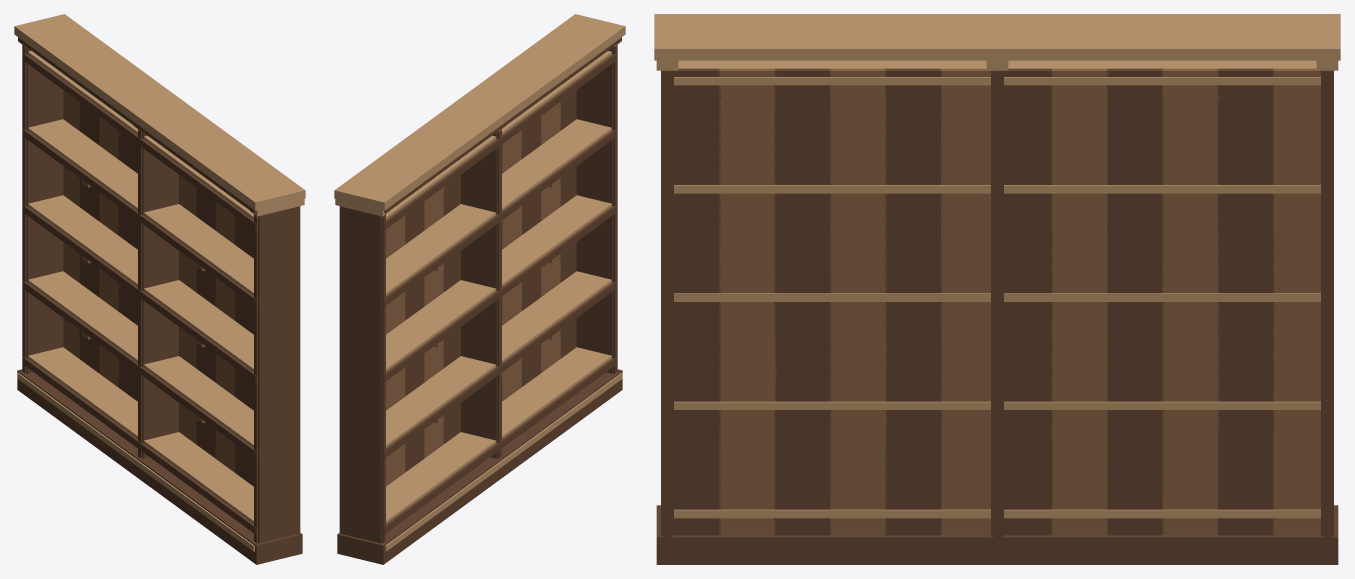
File: deco_furn_shelf.obj
3 views of the same model, side by side, from view 1: azimuth 30°, elevation 25°; view 2: azimuth 150°, elevation 25°; view 3: azimuth 270°, elevation 25° (orthographic). The views are drawn at different scales.
Visible parts, largest first — view 1: deco_furn_shelf; view 2: deco_furn_shelf; view 3: deco_furn_shelf.
Part boxes in pixels (x1=…): deco_furn_shelf: x1=14, y1=14, x2=305, y2=564; deco_furn_shelf: x1=334, y1=14, x2=625, y2=564; deco_furn_shelf: x1=654, y1=14, x2=1340, y2=564.
Size of the model in its own units: 0.38 by 2.63 by 3.16.
1 material, 1 textured.
